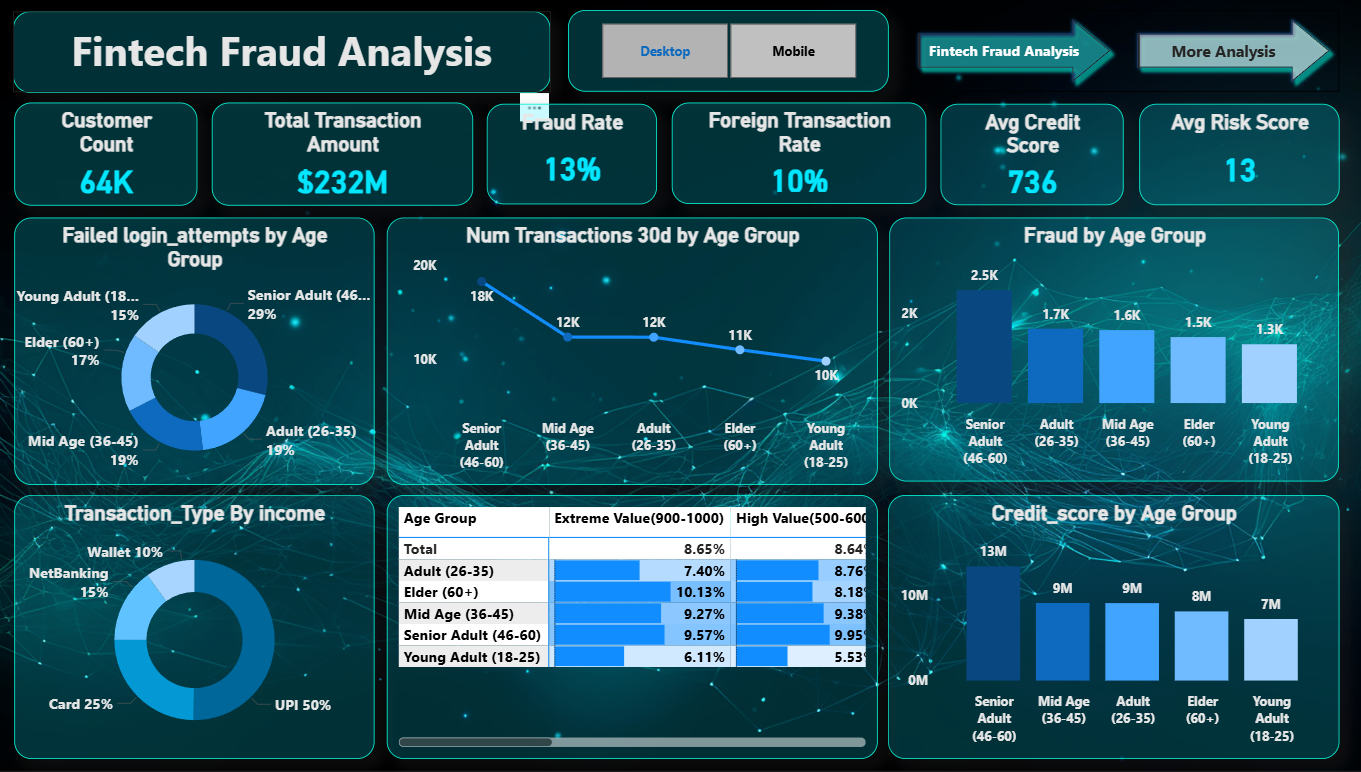

The page's visual inventory and layout, read from the dashboard file:
{"tool":"powerbi","page":{"name":"Fintech Fraud Analysis","canvas":[1280,720],"ordinal":0},"visuals":[{"type":"textbox","box":[14.3,10,500,75.7],"z":0},{"type":"donutChart","title":"Transaction_Type By income","fields":{"Category":["fintech_fraud_dataset_80k.transaction_type"],"Y":["Sum(fintech_fraud_dataset_80k.income)"]},"box":[14.7,460.1,335,245.4],"z":1000},{"type":"card","title":"Customer Count","fields":{"Values":["CountNonNull(fintech_fraud_dataset_80k.customer_id)"]},"box":[14.7,95.7,170.6,95.7],"z":2000},{"type":"card","title":"Avg Credit Score","fields":{"Values":["Avg(fintech_fraud_dataset_80k.credit_score)"]},"box":[877.3,96.9,170.6,94.5],"z":3000},{"type":"pageNavigator","box":[847.9,9.8,400,76.1],"z":4000},{"type":"slicer","fields":{"Values":["fintech_fraud_dataset_80k.device_type"]},"box":[530.1,9.8,298.2,76.1],"z":5000},{"type":"card","title":"Fraud Rate","fields":{"Values":["fintech_fraud_dataset_80k.Fraud Rate"]},"box":[455.2,96.9,158.3,93.3],"z":6000},{"type":"card","title":"Foreign Transaction Rate","fields":{"Values":["fintech_fraud_dataset_80k.Foreign Transaction Rate"]},"box":[627,95.7,236.8,94.5],"z":7000},{"type":"clusteredColumnChart","title":"Fraud by Age Group","fields":{"Category":["fintech_fraud_dataset_80k.Age Group"],"Y":["Sum(fintech_fraud_dataset_80k.is_fraud)"]},"box":[829.5,202.5,418.4,245.4],"z":8000},{"type":"lineChart","title":"Num Transactions 30d by Age Group","fields":{"Category":["fintech_fraud_dataset_80k.Age Group"],"Y":["CountNonNull(fintech_fraud_dataset_80k.num_transactions_30d)"]},"box":[362,202.5,456.4,249.1],"z":9000},{"type":"donutChart","title":"Failed login_attempts by Age Group","fields":{"Y":["Sum(fintech_fraud_dataset_80k.failed_login_attempts)"],"Category":["fintech_fraud_dataset_80k.Age Group"]},"box":[14.7,202.5,335,249.1],"z":10000},{"type":"card","title":"Total Transaction Amount","fields":{"Values":["Sum(fintech_fraud_dataset_80k.transaction_amount)"]},"box":[198.8,95.7,242.9,95.7],"z":11000},{"type":"card","title":"Avg Risk Score","fields":{"Values":["Avg(fintech_fraud_dataset_80k.risk_score)"]},"box":[1061.4,96.9,186.5,94.5],"z":12000},{"type":"clusteredColumnChart","title":"Credit_score by Age Group","fields":{"Category":["fintech_fraud_dataset_80k.Age Group"],"Y":["Sum(fintech_fraud_dataset_80k.credit_score)"]},"box":[828.2,460.1,419.6,245.4],"z":13000},{"type":"pivotTable","fields":{"Values":["fintech_fraud_dataset_80k.Fraud Rate"],"Rows":["fintech_fraud_dataset_80k.Age Group"],"Columns":["fintech_fraud_dataset_80k.Transaction Amount Group"]},"box":[362,460.1,456.4,245.4],"z":14000}]}

Visuals, with their boxes in screenshot pixels (x1, y1, x2, y2), scaled from the page's 1280x720 canvas onto the 1361x772 screenshot:
textbox: l=15, t=11, r=547, b=92
"Transaction_Type By income" donutChart: l=16, t=493, r=372, b=756
"Customer Count" card: l=16, t=103, r=197, b=205
"Avg Credit Score" card: l=933, t=104, r=1114, b=205
pageNavigator: l=902, t=11, r=1327, b=92
slicer - fintech_fraud_dataset_80k.device_type: l=564, t=11, r=881, b=92
"Fraud Rate" card: l=484, t=104, r=652, b=204
"Foreign Transaction Rate" card: l=667, t=103, r=918, b=204
"Fraud by Age Group" clusteredColumnChart: l=882, t=217, r=1327, b=480
"Num Transactions 30d by Age Group" lineChart: l=385, t=217, r=870, b=484
"Failed login_attempts by Age Group" donutChart: l=16, t=217, r=372, b=484
"Total Transaction Amount" card: l=211, t=103, r=470, b=205
"Avg Risk Score" card: l=1129, t=104, r=1327, b=205
"Credit_score by Age Group" clusteredColumnChart: l=881, t=493, r=1327, b=756
pivotTable - fintech_fraud_dataset_80k.Fraud Rate x fintech_fraud_dataset_80k.Age Group: l=385, t=493, r=870, b=756
